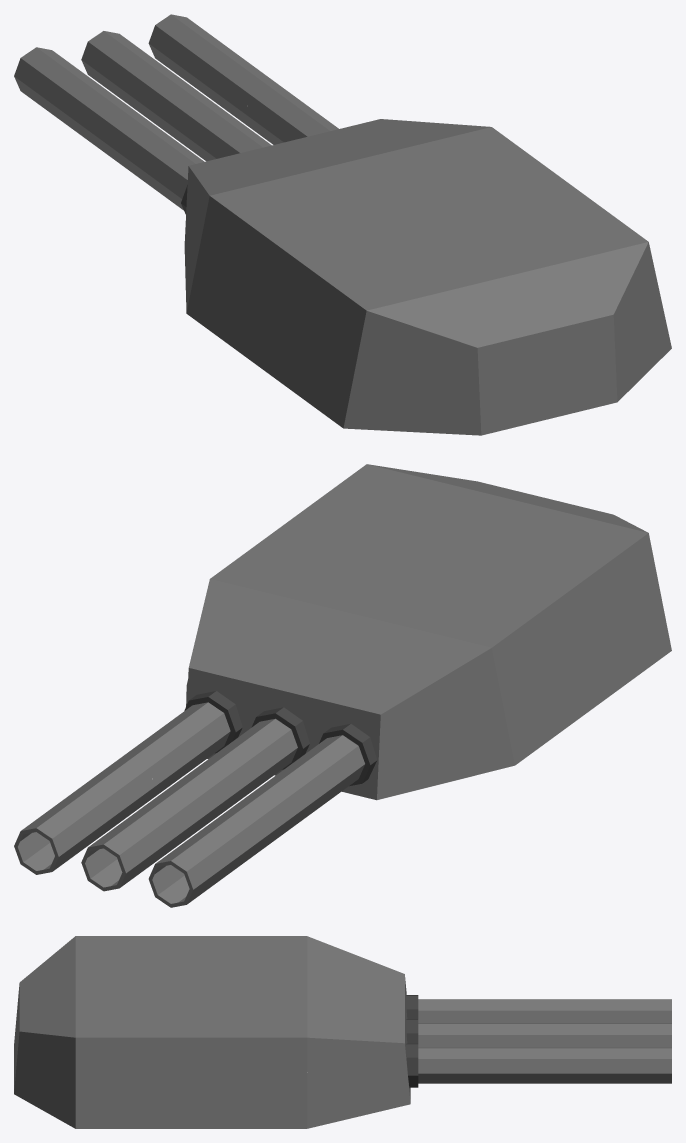
The model's file is Gun3.fbx.
3 renders of one model, top to bottom at view 1: azimuth 30°, elevation 25°; view 2: azimuth 150°, elevation 25°; view 3: azimuth 270°, elevation 25°, orthographic. The views are drawn at different scales.
Parts seen in each view (by area): view 1: Cube.003; view 2: Cube.003; view 3: Cube.003.
Part boxes in pixels (bbox=[...]): Cube.003: bbox=[14, 14, 671, 435]; Cube.003: bbox=[14, 464, 671, 907]; Cube.003: bbox=[14, 936, 671, 1128].
Size of the model in its own units: 146 by 47.83 by 344.
1 material, 1 textured.
